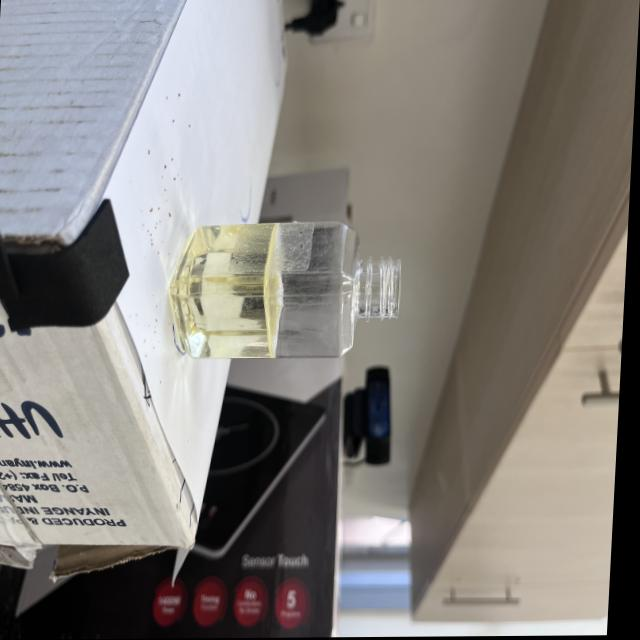oil: (168, 220, 287, 361)
